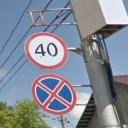speed_limit_40: (24, 31, 68, 70)
